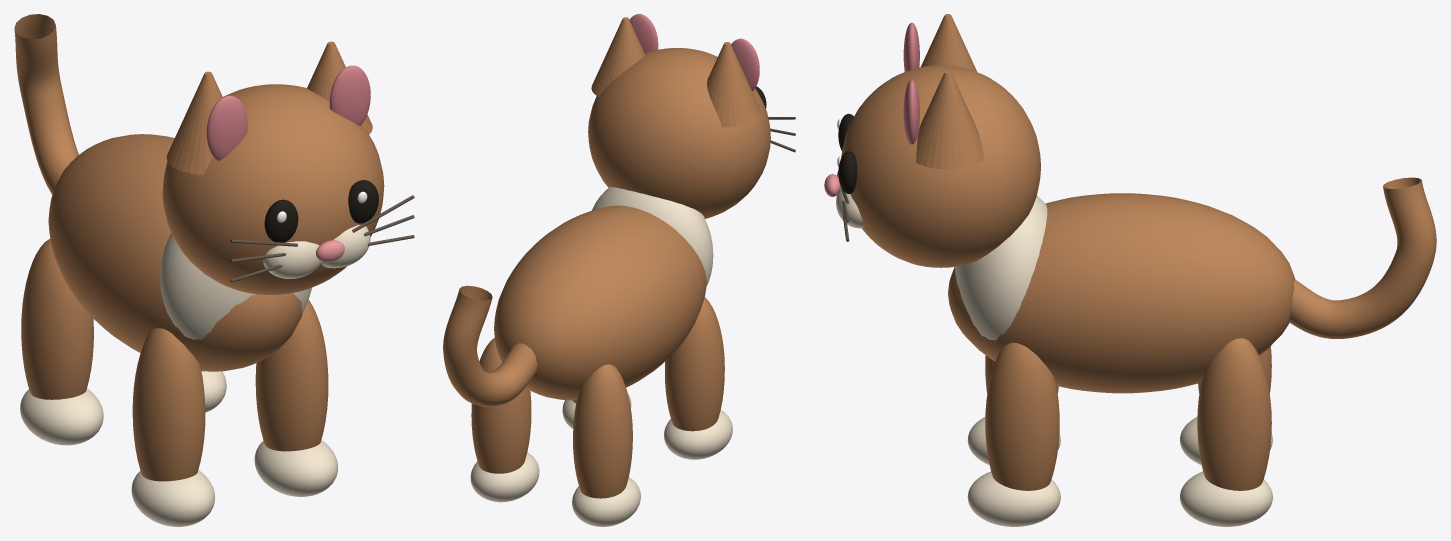
3 renders of one model, left to right at view 1: azimuth 30°, elevation 25°; view 2: azimuth 150°, elevation 25°; view 3: azimuth 270°, elevation 25°, orthographic. The views are drawn at different scales.
Parts seen in each view (by area): view 1: Head, Cat Body, Leg, Leg.001, Leg.002, Curved Tail, Chest, Paw.001, Paw.002, Paw, Cat Ear, Inner Ear (+8 smaller); view 2: Cat Body, Head, Leg.001, Curved Tail, Leg, Leg.003, Chest, Cat Ear, Paw.003, Paw, Paw.001, Cat Ear.001 (+2 smaller); view 3: Cat Body, Head, Leg.003, Curved Tail, Leg.002, Chest, Cat Ear.001, Paw.002, Paw.003, Cat Ear, Inner Ear.001, Paw.
Boxes of the visible parts, x1,y1,x2,y2 form: Head: (162, 84, 384, 294); Cat Body: (48, 134, 302, 371); Leg: (132, 328, 205, 481); Leg.001: (21, 239, 93, 399); Leg.002: (255, 300, 328, 451); Curved Tail: (14, 14, 78, 194); Chest: (160, 233, 311, 339); Paw.001: (20, 388, 103, 445); Paw.002: (254, 440, 338, 496); Paw: (131, 470, 214, 526); Cat Ear: (166, 71, 222, 174); Inner Ear: (206, 95, 247, 160); Cat Body: (494, 205, 706, 400); Head: (588, 48, 770, 218); Leg.001: (573, 364, 632, 498); Curved Tail: (443, 285, 537, 406); Leg: (665, 297, 724, 431); Leg.003: (471, 338, 531, 473); Chest: (592, 187, 713, 286); Cat Ear: (707, 42, 761, 127); Paw.003: (470, 452, 539, 502); Paw: (664, 410, 732, 459); Paw.001: (572, 477, 640, 526); Cat Ear.001: (591, 17, 644, 96); Cat Body: (948, 193, 1294, 393); Head: (841, 65, 1040, 267); Leg.003: (1197, 338, 1271, 490); Curved Tail: (1289, 177, 1436, 338); Leg.002: (985, 342, 1059, 490); Chest: (955, 195, 1047, 340); Cat Ear.001: (916, 71, 984, 169); Paw.002: (967, 471, 1060, 526); Paw.003: (1180, 471, 1272, 526); Cat Ear: (921, 14, 976, 71); Inner Ear.001: (903, 79, 919, 144); Paw: (967, 417, 1060, 464).
Size of what is drawn, in the model's own units: 0.92 by 2.13 by 2.63.
